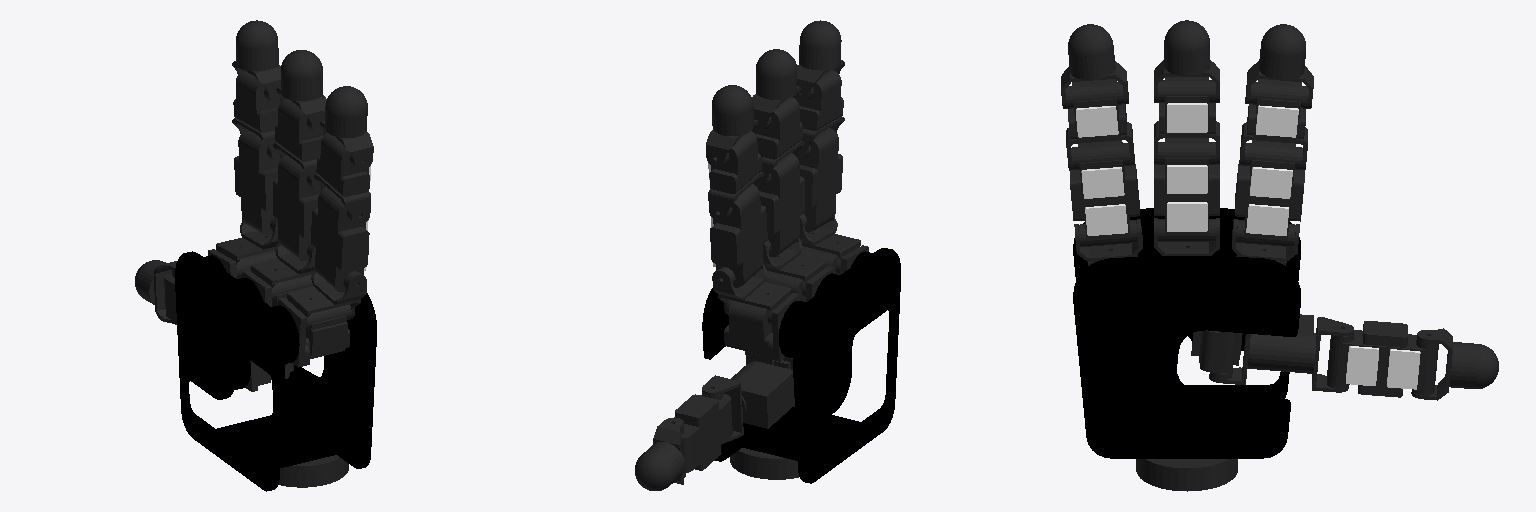
--- What the picture shows (computed from the rendered views, not written in the file) ---
The picture shows the robot from 3 angles, left to right: view 1: azimuth 30°, elevation 25°; view 2: azimuth 150°, elevation 25°; view 3: azimuth 270°, elevation 25°; orthographic projection.
Model kistar_hand with 37 links and 36 joints (16 revolute, 20 fixed), rooted at mount, posed all joints at 0.
Visible links, largest first — view 1: palm, ring_link_1, middle_link_1, index_link_1, ring_link_2, ring_tip, ring_basemotor, middle_tip, index_tip, middle_link_2, index_link_2, ring_link_0 (+6 smaller); view 2: palm, index_link_1, thumb_link_2, thumb_link_0, middle_link_1, ring_link_1, index_basemotor, index_link_2, index_tip, thumb_tip, middle_tip, ring_tip (+9 smaller); view 3: palm, thumb_link_2, ring_link_1, index_link_1, middle_link_1, thumb_link_0, thumb_tip, index_tip, ring_tip, middle_tip, mount, ring_link_2 (+18 smaller).
Link boxes in pixels (x1,y1,x2,y2): palm: [175, 251, 376, 491]; ring_link_1: [311, 187, 369, 291]; middle_link_1: [273, 155, 320, 260]; index_link_1: [234, 129, 278, 235]; ring_link_2: [314, 133, 370, 225]; ring_tip: [319, 86, 373, 170]; ring_basemotor: [278, 297, 351, 367]; middle_tip: [275, 50, 326, 133]; index_tip: [232, 20, 280, 103]; middle_link_2: [273, 98, 323, 190]; index_link_2: [232, 70, 280, 162]; ring_link_0: [287, 269, 366, 318]; palm: [702, 248, 900, 483]; index_link_1: [710, 184, 767, 287]; thumb_link_2: [675, 392, 732, 474]; thumb_link_0: [731, 351, 794, 428]; middle_link_1: [758, 153, 804, 256]; ring_link_1: [799, 128, 842, 232]; index_basemotor: [724, 293, 799, 361]; index_link_2: [708, 131, 764, 221]; index_tip: [706, 85, 759, 167]; thumb_tip: [635, 417, 685, 490]; middle_tip: [752, 49, 801, 131]; ring_tip: [797, 20, 844, 102]; palm: [1073, 208, 1300, 458]; thumb_link_2: [1327, 321, 1438, 397]; ring_link_1: [1070, 140, 1139, 246]; index_link_1: [1235, 140, 1304, 246]; middle_link_1: [1154, 138, 1219, 241]; thumb_link_0: [1209, 314, 1316, 384]; thumb_tip: [1411, 328, 1498, 400]; index_tip: [1245, 24, 1313, 108]; ring_tip: [1061, 24, 1128, 108]; middle_tip: [1154, 20, 1219, 102]; mount: [1136, 459, 1237, 491]; ring_link_2: [1065, 79, 1134, 170].
Size in the robot's own frame: 0.056 by 0.1721 by 0.1938 metres.
33 mesh visuals loaded from 13 distinct referenced files (13 binary STL).

robot.urdf — kistar_hand:
<?xml version="1.0" ?>
<!--Made by Jaesung Lee/ Last update: 2024-12-09-->
<robot name="kistar_hand">

  <!-- MOUNT -->
  <link name="mount">
    <inertial>
      <mass value="0.0"/>
      <origin rpy="0 0 0" xyz="0 0 0"/>
      <inertia ixx="0.0" ixy="0.0" ixz="0.0" iyy="0.0" iyz="0.0" izz="0.0"/>
    </inertial>
    <visual>
      <geometry>
        <mesh filename="meshes/kistar/mount.STL"/>
      </geometry>
      <material name="Grey">
        <color rgba="0.2 0.2 0.2 1"/>
      </material>
    </visual>
  </link>

  <!-- PALM -->
   <link name="palm">
    <inertial>
	    <mass value="15.476"/>
	    <origin rpy="0 0 0" xyz="-0.01669 0.00079 -0.02862"/>
	    <inertia ixx="0.00032705182" ixy="-0.00001050022" ixz="0.00005386046" iyy="0.00035100257" iyz="-0.00000337009" izz="0.00016323150"/>
    </inertial>
    <visual>
      <geometry>
        <mesh filename="meshes/kistar/palm02.STL"/>
      </geometry>
      <material name="Black">
        <color rgba="0 0 0 1"/>
      </material>
    </visual>
  </link>

  <!-- thumb -->
  <link name="thumb_basemotor">
    <inertial>
    	<mass value="1.904"/>
	    <origin rpy="0 0 0" xyz="0.01002 0.00044 0.00000"/>
	    <inertia ixx="0.00000107197" ixy="0.00000008151" ixz="0.00000000000" iyy="0.00000344968" iyz="0.00000000000" izz="0.00000315305"/>
    </inertial>
    <visual>
      <geometry>
        <mesh filename="meshes/kistar/thumb_basemotor.STL"/>
      </geometry>
      <material name="Grey">
        <color rgba="0.2 0.2 0.2 1"/>
      </material>
    </visual>
  </link>

  <link name="thumb_link_0">
    <inertial>
	    <mass value="2.423"/>
	    <origin rpy="0 0 0" xyz="-0.00714 0.00000 0.02081"/>
	    <inertia ixx="0.00001317338" ixy="0.00000000000" ixz="-0.00000386319" iyy="0.00001497641" iyz="0.00000000000" izz="0.00000318767"/>
    </inertial>
    <visual>
      <geometry>
        <mesh filename="meshes/kistar/thumb_link_0.STL"/>
      </geometry>
      <material name="Grey">
        <color rgba="0.2 0.2 0.2 1"/>
      </material>
    </visual>
  </link>

  <link name="thumb_link_1">
    <inertial>
	  <mass value="0.191"/>
	    <origin rpy="0 0 0" xyz="0.00043 0.00000 0.00345"/>
	    <inertia ixx="0.00000023689" ixy="0.00000000000" ixz="0.00000000784" iyy="0.00000007651" iyz="0.00000000000" izz="0.00000021019"/>
    </inertial>
    <visual>
      <geometry>
        <mesh filename="meshes/kistar/thumb_link_1.STL"/>
      </geometry>
      <material name="Grey">
        <color rgba="0.2 0.2 0.2 1"/>
      </material>
    </visual>
  </link>

  <link name="thumb_link_2">
    <inertial>
	    <mass value="1.827"/>
	    <origin rpy="0 0 0" xyz="-0.00154 0.00021 0.01842"/>
	    <inertia ixx="0.00000796138" ixy="-0.00000001114" ixz="-0.00000053085" iyy="0.00000752132" iyz="0.00000001719" izz="0.00000105696"/>
    </inertial>
    <visual>
      <geometry>
        <mesh filename="meshes/kistar/thumb_link_2.STL"/>
      </geometry>
      <material name="Grey">
        <color rgba="0.2 0.2 0.2 1"/>
      </material>
    </visual>
  </link>

  <link name="thumb_tip">
    <inertial>
	    <mass value="0.719"/>
	    <origin rpy="0 0 0" xyz="-0.00190 0.00000 0.01626"/>
	    <inertia ixx="0.00000240986" ixy="0.00000000000" ixz="-0.00000023287" iyy="0.00000235111" iyz="0.00000000000" izz="0.00000036696"/>
    </inertial>
    <visual>
      <geometry>
        <mesh filename="meshes/kistar/thumb_tip.STL"/>
      </geometry>
      <material name="Grey">
        <color rgba="0.2 0.2 0.2 1"/>
      </material>
    </visual>
  </link>

  <link name="thumb_sensor_0">
    <inertial>
      <mass value="0.0"/>
      <origin rpy="0 0 0" xyz="0 0 0"/>
      <inertia ixx="0.0" ixy="0.0" ixz="0.0" iyy="0.0" iyz="0.0" izz="0.0"/>
    </inertial>
    <visual>
      <geometry>
        <mesh filename="meshes/kistar/sensor.STL"/>
      </geometry>
      <material name="White">
        <color rgba="1 1 1 1"/>
      </material>
    </visual>
  </link>

  <link name="thumb_sensor_1">
    <inertial>
      <mass value="0.0"/>
      <origin rpy="0 0 0" xyz="0 0 0"/>
      <inertia ixx="0.0" ixy="0.0" ixz="0.0" iyy="0.0" iyz="0.0" izz="0.0"/>
    </inertial>
    <visual>
      <geometry>
        <mesh filename="meshes/kistar/sensor.STL"/>
      </geometry>
      <material name="White">
        <color rgba="1 1 1 1"/>
      </material>
    </visual>
  </link>
 


  <!-- INDEX -->
  <link name="index_basemotor">
    <inertial>
    	<mass value="1.904"/>
    	<origin rpy="0 0 0" xyz="0.01338 0.00095 -0.00207"/>
    	<inertia ixx="0.00000121099" ixy="0.00000030359" ixz="-0.00000056482" iyy="0.00000548403" iyz="-0.00000003164" izz="0.00000507172"/>
    </inertial>
    <visual>
      <geometry>
        <mesh filename="meshes/kistar/finger_basemotor.STL"/>
      </geometry>
      <material name="Grey">
        <color rgba="0.2 0.2 0.2 1"/>
      </material>
    </visual>
  </link>

  <link name="index_link_0">
     <inertial>
	    <mass value="0.473"/>
	    <origin rpy="0 0 0" xyz="-0.00353 0.00000 0.00948"/>
	    <inertia ixx="0.00000076951" ixy="0.00000000000" ixz="-0.00000009858" iyy="0.00000092515" iyz="0.00000000000" izz="0.00000062017"/>
    </inertial>
    <visual>
      <geometry>
        <mesh filename="meshes/kistar/finger_link_0.STL"/>
      </geometry>
      <material name="Grey">
        <color rgba="0.2 0.2 0.2 1"/>
      </material>
    </visual>
  </link>

  <link name="index_link_1">
    <inertial>
	    <mass value="3.549"/>
	    <origin rpy="0 0 0" xyz="-0.00166 0.00000 0.01675"/>
	    <inertia ixx="0.00001607025" ixy="0.00000000000" ixz="-0.00000098913" iyy="0.00001510746" iyz="0.00000000000" izz="0.00000219008"/>
    </inertial>
    <visual>
      <geometry>
        <mesh filename="meshes/kistar/finger_link_1.STL"/>
      </geometry>
      <material name="Grey">
        <color rgba="0.2 0.2 0.2 1"/>
      </material>
    </visual>
  </link>

  <link name="index_link_2">
    <inertial>
	    <mass value="1.827"/>
	    <origin rpy="0 0 0" xyz="-0.00154 0.00021 0.01842"/>
	    <inertia ixx="0.00000796138" ixy="-0.00000001114" ixz="-0.00000053085" iyy="0.00000752132" iyz="0.00000001719" izz="0.00000105696"/>
    </inertial>
    <visual>
      <geometry>
        <mesh filename="meshes/kistar/finger_link_2.STL"/>
      </geometry>
      <material name="Grey">
        <color rgba="0.2 0.2 0.2 1"/>
      </material>
    </visual>
  </link>

  <link name="index_tip">
    <inertial>
	    <mass value="0.719"/>
	    <origin rpy="0 0 0" xyz="-0.00190 0.00000 0.01626"/>
	    <inertia ixx="0.00000240986" ixy="0.00000000000" ixz="-0.00000023287" iyy="0.00000235111" iyz="0.00000000000" izz="0.00000036696"/>
    </inertial>
    <visual>
      <geometry>
        <mesh filename="meshes/kistar/finger_tip.STL"/>
      </geometry>
      <material name="Grey">
        <color rgba="0.2 0.2 0.2 1"/>
      </material>
    </visual>
  </link>

  <link name="index_sensor_0">
    <inertial>
      <mass value="0.0"/>
      <origin rpy="0 0 0" xyz="0 0 0"/>
      <inertia ixx="0.0" ixy="0.0" ixz="0.0" iyy="0.0" iyz="0.0" izz="0.0"/>
    </inertial>
    <visual>
      <geometry>
        <mesh filename="meshes/kistar/sensor.STL"/>
      </geometry>
      <material name="White">
        <color rgba="1 1 1 1"/>
      </material>
    </visual>
  </link>

  <link name="index_sensor_1">
    <inertial>
      <mass value="0.0"/>
      <origin rpy="0 0 0" xyz="0 0 0"/>
      <inertia ixx="0.0" ixy="0.0" ixz="0.0" iyy="0.0" iyz="0.0" izz="0.0"/>
    </inertial>
    <visual>
      <geometry>
        <mesh filename="meshes/kistar/sensor.STL"/>
      </geometry>
      <material name="White">
        <color rgba="1 1 1 1"/>
      </material>
    </visual>
  </link>
 
  <link name="index_sensor_2">
    <inertial>
      <mass value="0.0"/>
      <origin rpy="0 0 0" xyz="0 0 0"/>
      <inertia ixx="0.0" ixy="0.0" ixz="0.0" iyy="0.0" iyz="0.0" izz="0.0"/>
    </inertial>
    <visual>
      <geometry>
        <mesh filename="meshes/kistar/sensor.STL"/>
      </geometry>
      <material name="White">
        <color rgba="1 1 1 1"/>
      </material>
    </visual>
  </link>

  <!-- Middle -->
  <link name="middle_basemotor">
    <inertial>
    	<mass value="1.904"/>
    	<origin rpy="0 0 0" xyz="0.01338 0.00095 -0.00207"/>
    	<inertia ixx="0.00000121099" ixy="0.00000030359" ixz="-0.00000056482" iyy="0.00000548403" iyz="-0.00000003164" izz="0.00000507172"/>
    </inertial>
    <visual>
      <geometry>
        <mesh filename="meshes/kistar/finger_basemotor.STL"/>
      </geometry>
      <material name="Grey">
        <color rgba="0.2 0.2 0.2 1"/>
      </material>
    </visual>
  </link>

  <link name="middle_link_0">
     <inertial>
	    <mass value="0.473"/>
	    <origin rpy="0 0 0" xyz="-0.00353 0.00000 0.00948"/>
	    <inertia ixx="0.00000076951" ixy="0.00000000000" ixz="-0.00000009858" iyy="0.00000092515" iyz="0.00000000000" izz="0.00000062017"/>
    </inertial>
    <visual>
      <geometry>
        <mesh filename="meshes/kistar/finger_link_0.STL"/>
      </geometry>
      <material name="Grey">
        <color rgba="0.2 0.2 0.2 1"/>
      </material>
    </visual>
  </link>

  <link name="middle_link_1">
    <inertial>
	    <mass value="3.549"/>
	    <origin rpy="0 0 0" xyz="-0.00166 0.00000 0.01675"/>
	    <inertia ixx="0.00001607025" ixy="0.00000000000" ixz="-0.00000098913" iyy="0.00001510746" iyz="0.00000000000" izz="0.00000219008"/>
    </inertial>
    <visual>
      <geometry>
        <mesh filename="meshes/kistar/finger_link_1.STL"/>
      </geometry>
      <material name="Grey">
        <color rgba="0.2 0.2 0.2 1"/>
      </material>
    </visual>
  </link>

  <link name="middle_link_2">
    <inertial>
	    <mass value="1.827"/>
	    <origin rpy="0 0 0" xyz="-0.00154 0.00021 0.01842"/>
	    <inertia ixx="0.00000796138" ixy="-0.00000001114" ixz="-0.00000053085" iyy="0.00000752132" iyz="0.00000001719" izz="0.00000105696"/>
    </inertial>
    <visual>
      <geometry>
        <mesh filename="meshes/kistar/finger_link_2.STL"/>
      </geometry>
      <material name="Grey">
        <color rgba="0.2 0.2 0.2 1"/>
      </material>
    </visual>
  </link>

  <link name="middle_tip">
    <inertial>
	    <mass value="0.719"/>
	    <origin rpy="0 0 0" xyz="-0.00190 0.00000 0.01626"/>
	    <inertia ixx="0.00000240986" ixy="0.00000000000" ixz="-0.00000023287" iyy="0.00000235111" iyz="0.00000000000" izz="0.00000036696"/>
    </inertial>
    <visual>
      <geometry>
        <mesh filename="meshes/kistar/finger_tip.STL"/>
      </geometry>
      <material name="Grey">
        <color rgba="0.2 0.2 0.2 1"/>
      </material>
    </visual>
  </link>

  <link name="middle_sensor_0">
    <inertial>
      <mass value="0.0"/>
      <origin rpy="0 0 0" xyz="0 0 0"/>
      <inertia ixx="0.0" ixy="0.0" ixz="0.0" iyy="0.0" iyz="0.0" izz="0.0"/>
    </inertial>
    <visual>
      <geometry>
        <mesh filename="meshes/kistar/sensor.STL"/>
      </geometry>
      <material name="White">
        <color rgba="1 1 1 1"/>
      </material>
    </visual>
  </link>

  <link name="middle_sensor_1">
    <inertial>
      <mass value="0.0"/>
      <origin rpy="0 0 0" xyz="0 0 0"/>
      <inertia ixx="0.0" ixy="0.0" ixz="0.0" iyy="0.0" iyz="0.0" izz="0.0"/>
    </inertial>
    <visual>
      <geometry>
        <mesh filename="meshes/kistar/sensor.STL"/>
      </geometry>
      <material name="White">
        <color rgba="1 1 1 1"/>
      </material>
    </visual>
  </link>
 
  <link name="middle_sensor_2">
    <inertial>
      <mass value="0.0"/>
      <origin rpy="0 0 0" xyz="0 0 0"/>
      <inertia ixx="0.0" ixy="0.0" ixz="0.0" iyy="0.0" iyz="0.0" izz="0.0"/>
    </inertial>
    <visual>
      <geometry>
        <mesh filename="meshes/kistar/sensor.STL"/>
      </geometry>
      <material name="White">
        <color rgba="1 1 1 1"/>
      </material>
    </visual>
  </link>


  <!-- RING -->
  <link name="ring_basemotor">
    <inertial>
    	<mass value="1.904"/>
    	<origin rpy="0 0 0" xyz="0.01338 0.00095 -0.00207"/>
    	<inertia ixx="0.00000121099" ixy="0.00000030359" ixz="-0.00000056482" iyy="0.00000548403" iyz="-0.00000003164" izz="0.00000507172"/>
    </inertial>
    <visual>
      <geometry>
        <mesh filename="meshes/kistar/finger_basemotor.STL"/>
      </geometry>
      <material name="Grey">
        <color rgba="0.2 0.2 0.2 1"/>
      </material>
    </visual>
  </link>

  <link name="ring_link_0">
    <inertial>
	    <mass value="0.473"/>
	    <origin rpy="0 0 0" xyz="-0.00353 0.00000 0.00948"/>
	    <inertia ixx="0.00000076951" ixy="0.00000000000" ixz="-0.00000009858" iyy="0.00000092515" iyz="0.00000000000" izz="0.00000062017"/>
    </inertial>
    <visual>
      <geometry>
        <mesh filename="meshes/kistar/finger_link_0.STL"/>
      </geometry>
      <material name="Grey">
        <color rgba="0.2 0.2 0.2 1"/>
      </material>
    </visual>
  </link>

  <link name="ring_link_1">
    <inertial>
	    <mass value="3.549"/>
	    <origin rpy="0 0 0" xyz="-0.00166 0.00000 0.01675"/>
	    <inertia ixx="0.00001607025" ixy="0.00000000000" ixz="-0.00000098913" iyy="0.00001510746" iyz="0.00000000000" izz="0.00000219008"/>
    </inertial>
    <visual>
      <geometry>
        <mesh filename="meshes/kistar/finger_link_1.STL"/>
      </geometry>
      <material name="Grey">
        <color rgba="0.2 0.2 0.2 1"/>
      </material>
    </visual>
  </link>

  <link name="ring_link_2">
    <inertial>
	    <mass value="1.827"/>
	    <origin rpy="0 0 0" xyz="-0.00154 0.00021 0.01842"/>
	    <inertia ixx="0.00000796138" ixy="-0.00000001114" ixz="-0.00000053085" iyy="0.00000752132" iyz="0.00000001719" izz="0.00000105696"/>
    </inertial>
    <visual>
      <geometry>
        <mesh filename="meshes/kistar/finger_link_2.STL"/>
      </geometry>
      <material name="Grey">
        <color rgba="0.2 0.2 0.2 1"/>
      </material>
    </visual>
  </link>

  <link name="ring_tip">
    <inertial>
	    <mass value="0.719"/>
	    <origin rpy="0 0 0" xyz="-0.00190 0.00000 0.01626"/>
	    <inertia ixx="0.00000240986" ixy="0.00000000000" ixz="-0.00000023287" iyy="0.00000235111" iyz="0.00000000000" izz="0.00000036696"/>
    </inertial>
    <visual>
      <geometry>
        <mesh filename="meshes/kistar/finger_tip.STL"/>
      </geometry>
      <material name="Grey">
        <color rgba="0.2 0.2 0.2 1"/>
      </material>
    </visual>
  </link>

  <link name="ring_sensor_0">
    <inertial>
      <mass value="0.0"/>
      <origin rpy="0 0 0" xyz="0 0 0"/>
      <inertia ixx="0.0" ixy="0.0" ixz="0.0" iyy="0.0" iyz="0.0" izz="0.0"/>
    </inertial>
    <visual>
      <geometry>
        <mesh filename="meshes/kistar/sensor.STL"/>
      </geometry>
      <material name="White">
        <color rgba="1 1 1 1"/>
      </material>
    </visual>
  </link>

  <link name="ring_sensor_1">
    <inertial>
      <mass value="0.0"/>
      <origin rpy="0 0 0" xyz="0 0 0"/>
      <inertia ixx="0.0" ixy="0.0" ixz="0.0" iyy="0.0" iyz="0.0" izz="0.0"/>
    </inertial>
    <visual>
      <geometry>
        <mesh filename="meshes/kistar/sensor.STL"/>
      </geometry>
      <material name="White">
        <color rgba="1 1 1 1"/>
      </material>
    </visual>
  </link>
 
  <link name="ring_sensor_2">
    <inertial>
      <mass value="0.0"/>
      <origin rpy="0 0 0" xyz="0 0 0"/>
      <inertia ixx="0.0" ixy="0.0" ixz="0.0" iyy="0.0" iyz="0.0" izz="0.0"/>
    </inertial>
    <visual>
      <geometry>
        <mesh filename="meshes/kistar/sensor.STL"/>
      </geometry>
      <material name="White">
        <color rgba="1 1 1 1"/>
      </material>
    </visual>
  </link>


<!-- MOUNT JOINT -->
<joint name="kistar_mount_joint" type="fixed">
  <origin rpy="0. 0. 0." xyz="-0.02325 0. 0.071"/>
  <parent link="mount"/>
  <child link="palm"/>
</joint>


 <!-- THUMB JOINT -->
 <joint name="thumb_base_joint" type="fixed">
  <origin rpy="-0.0873 0. 0." xyz="0. 0.01224 -0.02988"/>
  <parent link="palm"/>
  <child link="thumb_basemotor"/>
</joint>

<joint name="thumb_joint_0" type="revolute">
  <axis xyz="0 1 0"/>
  <limit effort="10.0" lower="0." upper="1.5708" velocity="6.283"/>
  <origin rpy="-1.5708 0. 0." xyz="0.0197 0.002 0."/>
  <parent link="thumb_basemotor"/>
  <child link="thumb_link_0"/>
  <dynamics damping="0.0414019" friction="0.0523963"/>
</joint>

<joint name="thumb_joint_1" type="revolute">
  <axis xyz="0 0 1"/>
  <limit effort="10.0" lower="-1.5708" upper="0.15708" velocity="6.283"/>
  <origin rpy="0. 0. 0." xyz="-0.002 0. 0.036"/>
  <parent link="thumb_link_0"/>
  <child link="thumb_link_1"/>
  <dynamics damping="0.00587541" friction="0.0150275"/>
</joint>
<joint name="thumb_joint_2" type="revolute">
  <axis xyz="0 1 0"/>
  <limit effort="10.0" lower="0" upper="1.5708" velocity="6.283"/>
  <origin rpy="0. 0. 0." xyz="0.002 0. 0.0102"/>
  <parent link="thumb_link_1"/>
  <child link="thumb_link_2"/>
  <dynamics damping="0.010638" friction="0.00616359"/>
</joint>
<joint name="thumb_joint_3" type="revolute">
  <axis xyz="0 1 0"/>
  <limit effort="10.0" lower="0" upper="1.5708" velocity="6.283"/>
  <origin rpy="0. 0. 0." xyz="0. 0. 0.0335"/>
  <parent link="thumb_link_2"/>
  <child link="thumb_tip"/>
  <dynamics damping="0.0226948" friction="0.0227036"/>
</joint>

<joint name="thumb_sensor_0" type="fixed">
  <origin rpy="0. 0. 0." xyz="0.00525 0. 0.00865"/>
  <parent link="thumb_link_2"/>
  <child link="thumb_sensor_0"/>
</joint>

<joint name="thumb_sensor_1" type="fixed">
  <origin rpy="0. 0. 0." xyz="0.00525 0. 0.02485"/>
  <parent link="thumb_link_2"/>
  <child link="thumb_sensor_1"/>
</joint>

<!-- INDEX JOINT -->
<joint name="index_base_joint" type="fixed">
  <origin rpy="-0.0873 0. 0." xyz="0. 0.02883 -0.00126"/>
  <parent link="palm"/>
  <child link="index_basemotor"/>
</joint>

<joint name="index_joint_0" type="revolute">
  <axis xyz="1 0 0"/>
  <limit effort="10.0" lower="-0.261799" upper="0.08" velocity="6.283"/>
  <origin rpy="-0. 0. 0." xyz="0.02325 0. 0.0047"/>
  <parent link="index_basemotor"/>
  <child link="index_link_0"/>
  <dynamics damping="0.0414019" friction="0.0523963"/>
</joint>
<joint name="index_joint_1" type="revolute">
  <axis xyz="0 1 0"/>
  <limit effort="10.0" lower="0" upper="1.5708" velocity="6.283"/>
  <origin rpy="0. 0. 0." xyz="0.002 0. 0.019"/>
  <parent link="index_link_0"/>
  <child link="index_link_1"/>
  <dynamics damping="0.00587541" friction="0.0150275"/>
</joint>
<joint name="index_joint_2" type="revolute">
  <axis xyz="0 1 0"/>
  <limit effort="10.0" lower="0" upper="1.5708" velocity="6.283"/>
  <origin rpy="0. 0. 0." xyz="0. 0. 0.0335"/>
  <parent link="index_link_1"/>
  <child link="index_link_2"/>
  <dynamics damping="0.010638" friction="0.00616359"/>
</joint>
<joint name="index_joint_3" type="revolute">
  <axis xyz="0 1 0"/>
  <limit effort="10.0" lower="0" upper="1.5708" velocity="6.283"/>
  <origin rpy="0. 0. 0." xyz="0. 0. 0.0267"/>
  <parent link="index_link_2"/>
  <child link="index_tip"/>
  <dynamics damping="0.0226948" friction="0.0227036"/>
</joint>

<joint name="index_sensor_0" type="fixed">
  <origin rpy="0. 0. 0." xyz="0.00525 0. 0.00865"/>
  <parent link="index_link_1"/>
  <child link="index_sensor_0"/>
</joint>

<joint name="index_sensor_1" type="fixed">
  <origin rpy="0. 0. 0." xyz="0.00525 0. 0.02485"/>
  <parent link="index_link_1"/>
  <child link="index_sensor_1"/>
</joint>

<joint name="index_sensor_2" type="fixed">
  <origin rpy="0. 0. 0." xyz="0.00525 0. 0.01805"/>
  <parent link="index_link_2"/>
  <child link="index_sensor_2"/>
</joint>


<!-- MIDDLE JOINT -->

<joint name="middle_base_joint" type="fixed">
  <origin rpy="0. 0. 0." xyz="0. 0. 0."/>
  <parent link="palm"/>
  <child link="middle_basemotor"/>
</joint>

<joint name="middle_joint_0" type="revolute">
  <axis xyz="1 0 0"/>
  <limit effort="10.0" lower="-0.261799" upper="0.261799" velocity="6.283"/>
  <origin rpy="0. 0. 0." xyz="0.02325 0. 0.0047"/>
  <parent link="middle_basemotor"/>
  <child link="middle_link_0"/>
  <dynamics damping="0.0414019" friction="0.0523963"/>
</joint>

<joint name="middle_joint_1" type="revolute">
  <axis xyz="0 1 0"/>
  <limit effort="10.0" lower="0" upper="1.5708" velocity="6.283"/>
  <origin rpy="0. 0. 0." xyz="0.002 0. 0.019"/>
  <parent link="middle_link_0"/>
  <child link="middle_link_1"/>
  <dynamics damping="0.00587541" friction="0.0150275"/>
</joint>

<joint name="middle_joint_2" type="revolute">
  <axis xyz="0 1 0"/>
  <limit effort="10.0" lower="0" upper="1.5708" velocity="6.283"/>
  <origin rpy="0 0 0" xyz="0. 0. 0.0335"/>
  <parent link="middle_link_1"/>
  <child link="middle_link_2"/>
  <dynamics damping="0.010638" friction="0.00616359"/>
</joint>

<joint name="middle_joint_3" type="revolute">
  <axis xyz="0 1 0"/>
  <limit effort="10.0" lower="0" upper="1.5708" velocity="6.283"/>
  <origin rpy="0 0 0" xyz="0. 0. 0.0267"/>
  <parent link="middle_link_2"/>
  <child link="middle_tip"/>
  <dynamics damping="0.0226948" friction="0.0227036"/>
</joint>

<joint name="middle_sensor_0" type="fixed">
  <origin rpy="0. 0. 0." xyz="0.00525 0. 0.00865"/>
  <parent link="middle_link_1"/>
  <child link="middle_sensor_0"/>
</joint>

<joint name="middle_sensor_1" type="fixed">
  <origin rpy="0. 0. 0." xyz="0.00525 0. 0.02485"/>
  <parent link="middle_link_1"/>
  <child link="middle_sensor_1"/>
</joint>

<joint name="middle_sensor_2" type="fixed">
  <origin rpy="0. 0. 0." xyz="0.00525 0. 0.01805"/>
  <parent link="middle_link_2"/>
  <child link="middle_sensor_2"/>
</joint>


 <!-- RING JOINT -->
<joint name="ring_base_joint" type="fixed">
  <origin rpy="0.0873 0. 0." xyz="0. -0.02883 -0.00126"/>
  <parent link="palm"/>
  <child link="ring_basemotor"/>
</joint>

<joint name="ring_joint_0" type="revolute">
  <axis xyz="1 0 0"/>
  <limit effort="10.0" lower="-0.08" upper="0.261799" velocity="6.283"/>
  <origin rpy="-0. 0. 0." xyz="0.02325 0. 0.0047"/>
  <parent link="ring_basemotor"/>
  <child link="ring_link_0"/>
  <dynamics damping="0.0414019" friction="0.0523963"/>
</joint>
<joint name="ring_joint_1" type="revolute">
  <axis xyz="0 1 0"/>
  <limit effort="10.0" lower="0" upper="1.5708" velocity="6.283"/>
  <origin rpy="0. 0. 0." xyz="0.002 0. 0.019"/>
  <parent link="ring_link_0"/>
  <child link="ring_link_1"/>
  <dynamics damping="0.00587541" friction="0.0150275"/>
</joint>
<joint name="ring_joint_2" type="revolute">
  <axis xyz="0 1 0"/>
  <limit effort="10.0" lower="0" upper="1.5708" velocity="6.283"/>
  <origin rpy="0. 0. 0." xyz="0. 0. 0.0335"/>
  <parent link="ring_link_1"/>
  <child link="ring_link_2"/>
  <dynamics damping="0.010638" friction="0.00616359"/>
</joint>
<joint name="ring_joint_3" type="revolute">
  <axis xyz="0 1 0"/>
  <limit effort="10.0" lower="0" upper="1.5708" velocity="6.283"/>
  <origin rpy="0. 0. 0." xyz="0. 0. 0.0267"/>
  <parent link="ring_link_2"/>
  <child link="ring_tip"/>
  <dynamics damping="0.0226948" friction="0.0227036"/>
</joint>

<joint name="ring_sensor_0" type="fixed">
  <origin rpy="0. 0. 0." xyz="0.00525 0. 0.00865"/>
  <parent link="ring_link_1"/>
  <child link="ring_sensor_0"/>
</joint>

<joint name="ring_sensor_1" type="fixed">
  <origin rpy="0. 0. 0." xyz="0.00525 0. 0.02485"/>
  <parent link="ring_link_1"/>
  <child link="ring_sensor_1"/>
</joint>

<joint name="ring_sensor_2" type="fixed">
  <origin rpy="0. 0. 0." xyz="0.00525 0. 0.01805"/>
  <parent link="ring_link_2"/>
  <child link="ring_sensor_2"/>
</joint>



<link name="thumb_tip_end"/>
<link name="index_tip_end"/>
<link name="middle_tip_end"/>
<link name="ring_tip_end"/>

<joint name="thumb_joint_end" type="fixed">
  <origin rpy="0. 0. 0." xyz="0. 0. 0.030"/>
  <parent link="thumb_tip"/>
  <child link="thumb_tip_end"/>
</joint>
<joint name="index_joint_end" type="fixed">
  <origin rpy="0. 0. 0." xyz="0. 0. 0.030"/>
  <parent link="index_tip"/>
  <child link="index_tip_end"/>
</joint>
<joint name="middle_joint_end" type="fixed">
  <origin rpy="0. 0. 0." xyz="0. 0. 0.030"/>
  <parent link="middle_tip"/>
  <child link="middle_tip_end"/>
</joint>
<joint name="ring_joint_end" type="fixed">
  <origin rpy="0. 0. 0." xyz="0. 0. 0.030"/>
  <parent link="ring_tip"/>
  <child link="ring_tip_end"/>
</joint>

</robot>
